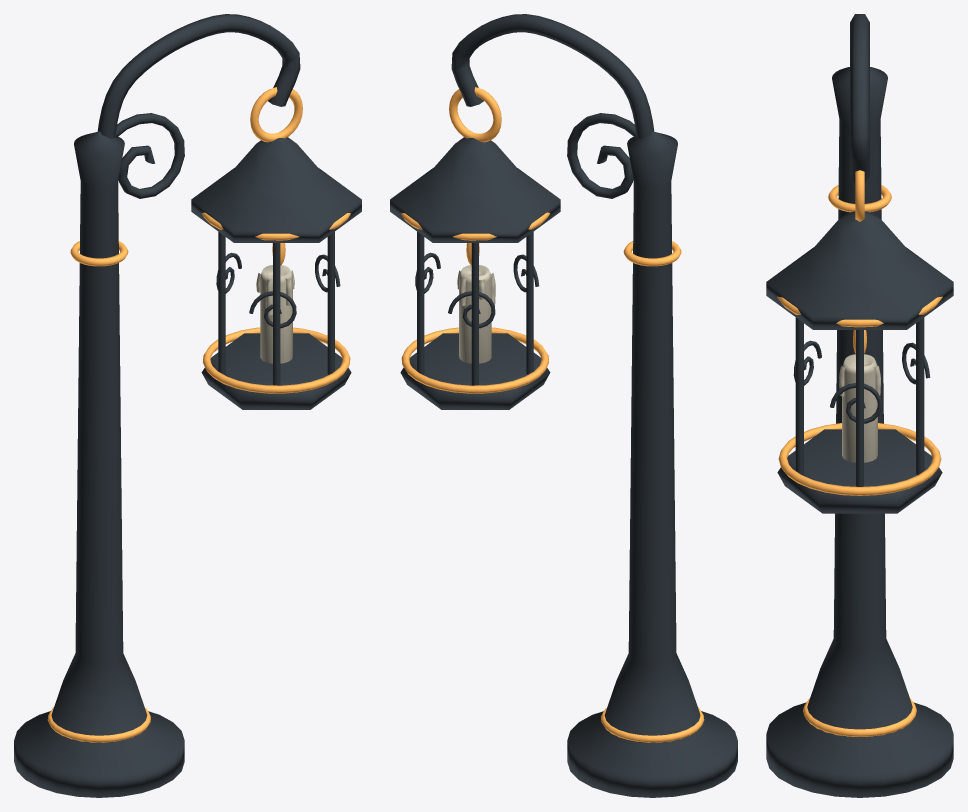
File: hollowwick-halloween-crooked-lantern-post-3120ecb3__21617.glb
3 views of the same model, side by side, from view 1: azimuth 30°, elevation 25°; view 2: azimuth 150°, elevation 25°; view 3: azimuth 270°, elevation 25° (orthographic). The views are drawn at different scales.
Visible parts, largest first — view 1: crooked-lantern-post; view 2: crooked-lantern-post; view 3: crooked-lantern-post.
Part boxes in pixels (x1=…): crooked-lantern-post: x1=14, y1=14, x2=361, y2=797; crooked-lantern-post: x1=390, y1=14, x2=737, y2=797; crooked-lantern-post: x1=766, y1=14, x2=953, y2=797.
Bounding box in the file's own units: 1.08 × 2.32 × 0.5.
3 materials, 1 textured.
